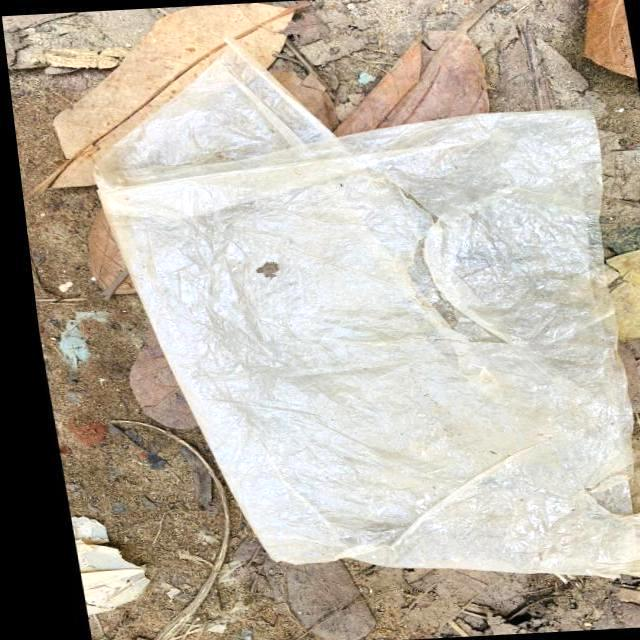polythene: (75, 32, 640, 579)
